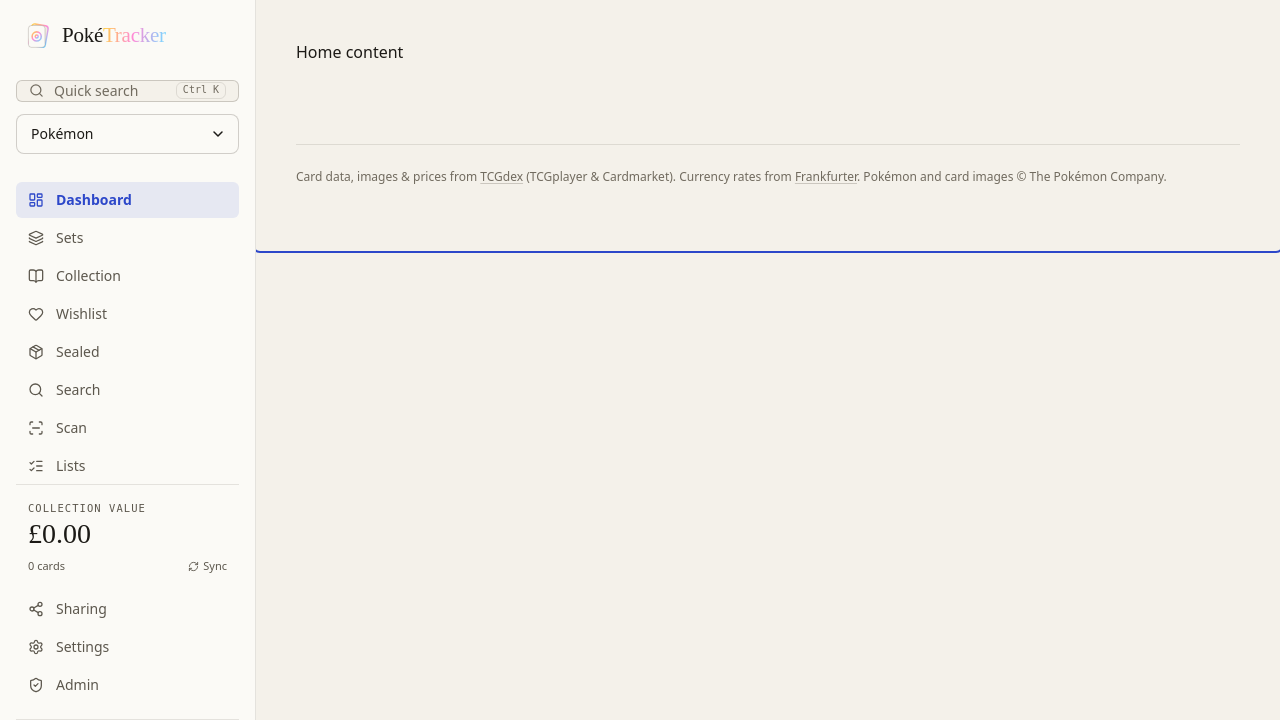
Test: Layout › toasts the reason when the price refresh fails
Click the button titled "Refresh prices".
click(208, 567)  # box [188,558,227,575]
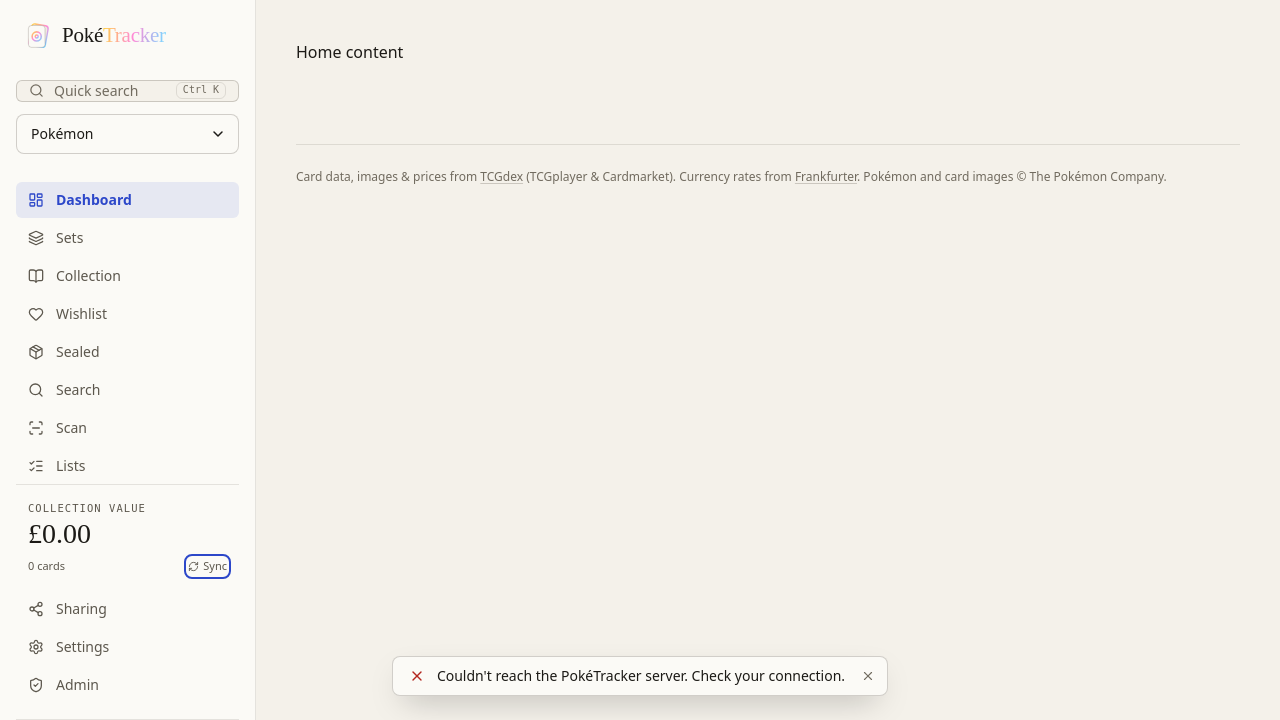
Expected: the text "Couldn't reach the PokéTracker server. Check your connection." is shown, [437,666,845,686]
